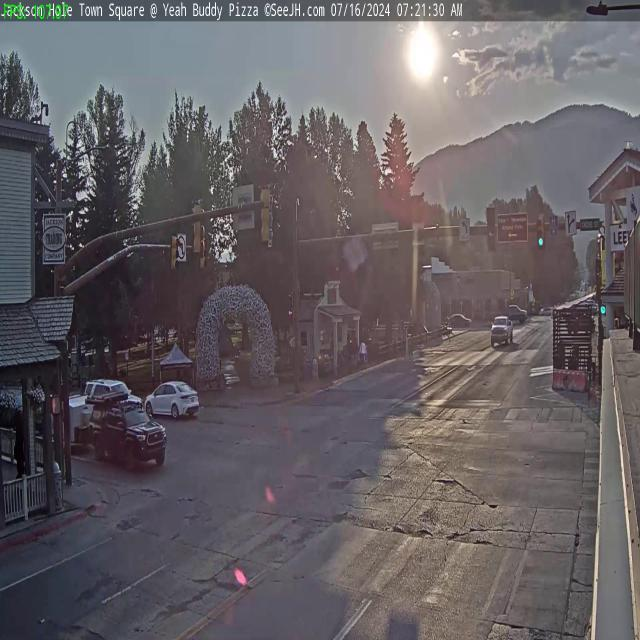pickup: (490, 314, 515, 346)
suv: (89, 404, 170, 472), (143, 377, 199, 422), (88, 376, 142, 422)
traffic light: (190, 198, 204, 255), (260, 184, 273, 245), (486, 206, 497, 251), (170, 237, 180, 275), (537, 214, 545, 248)
